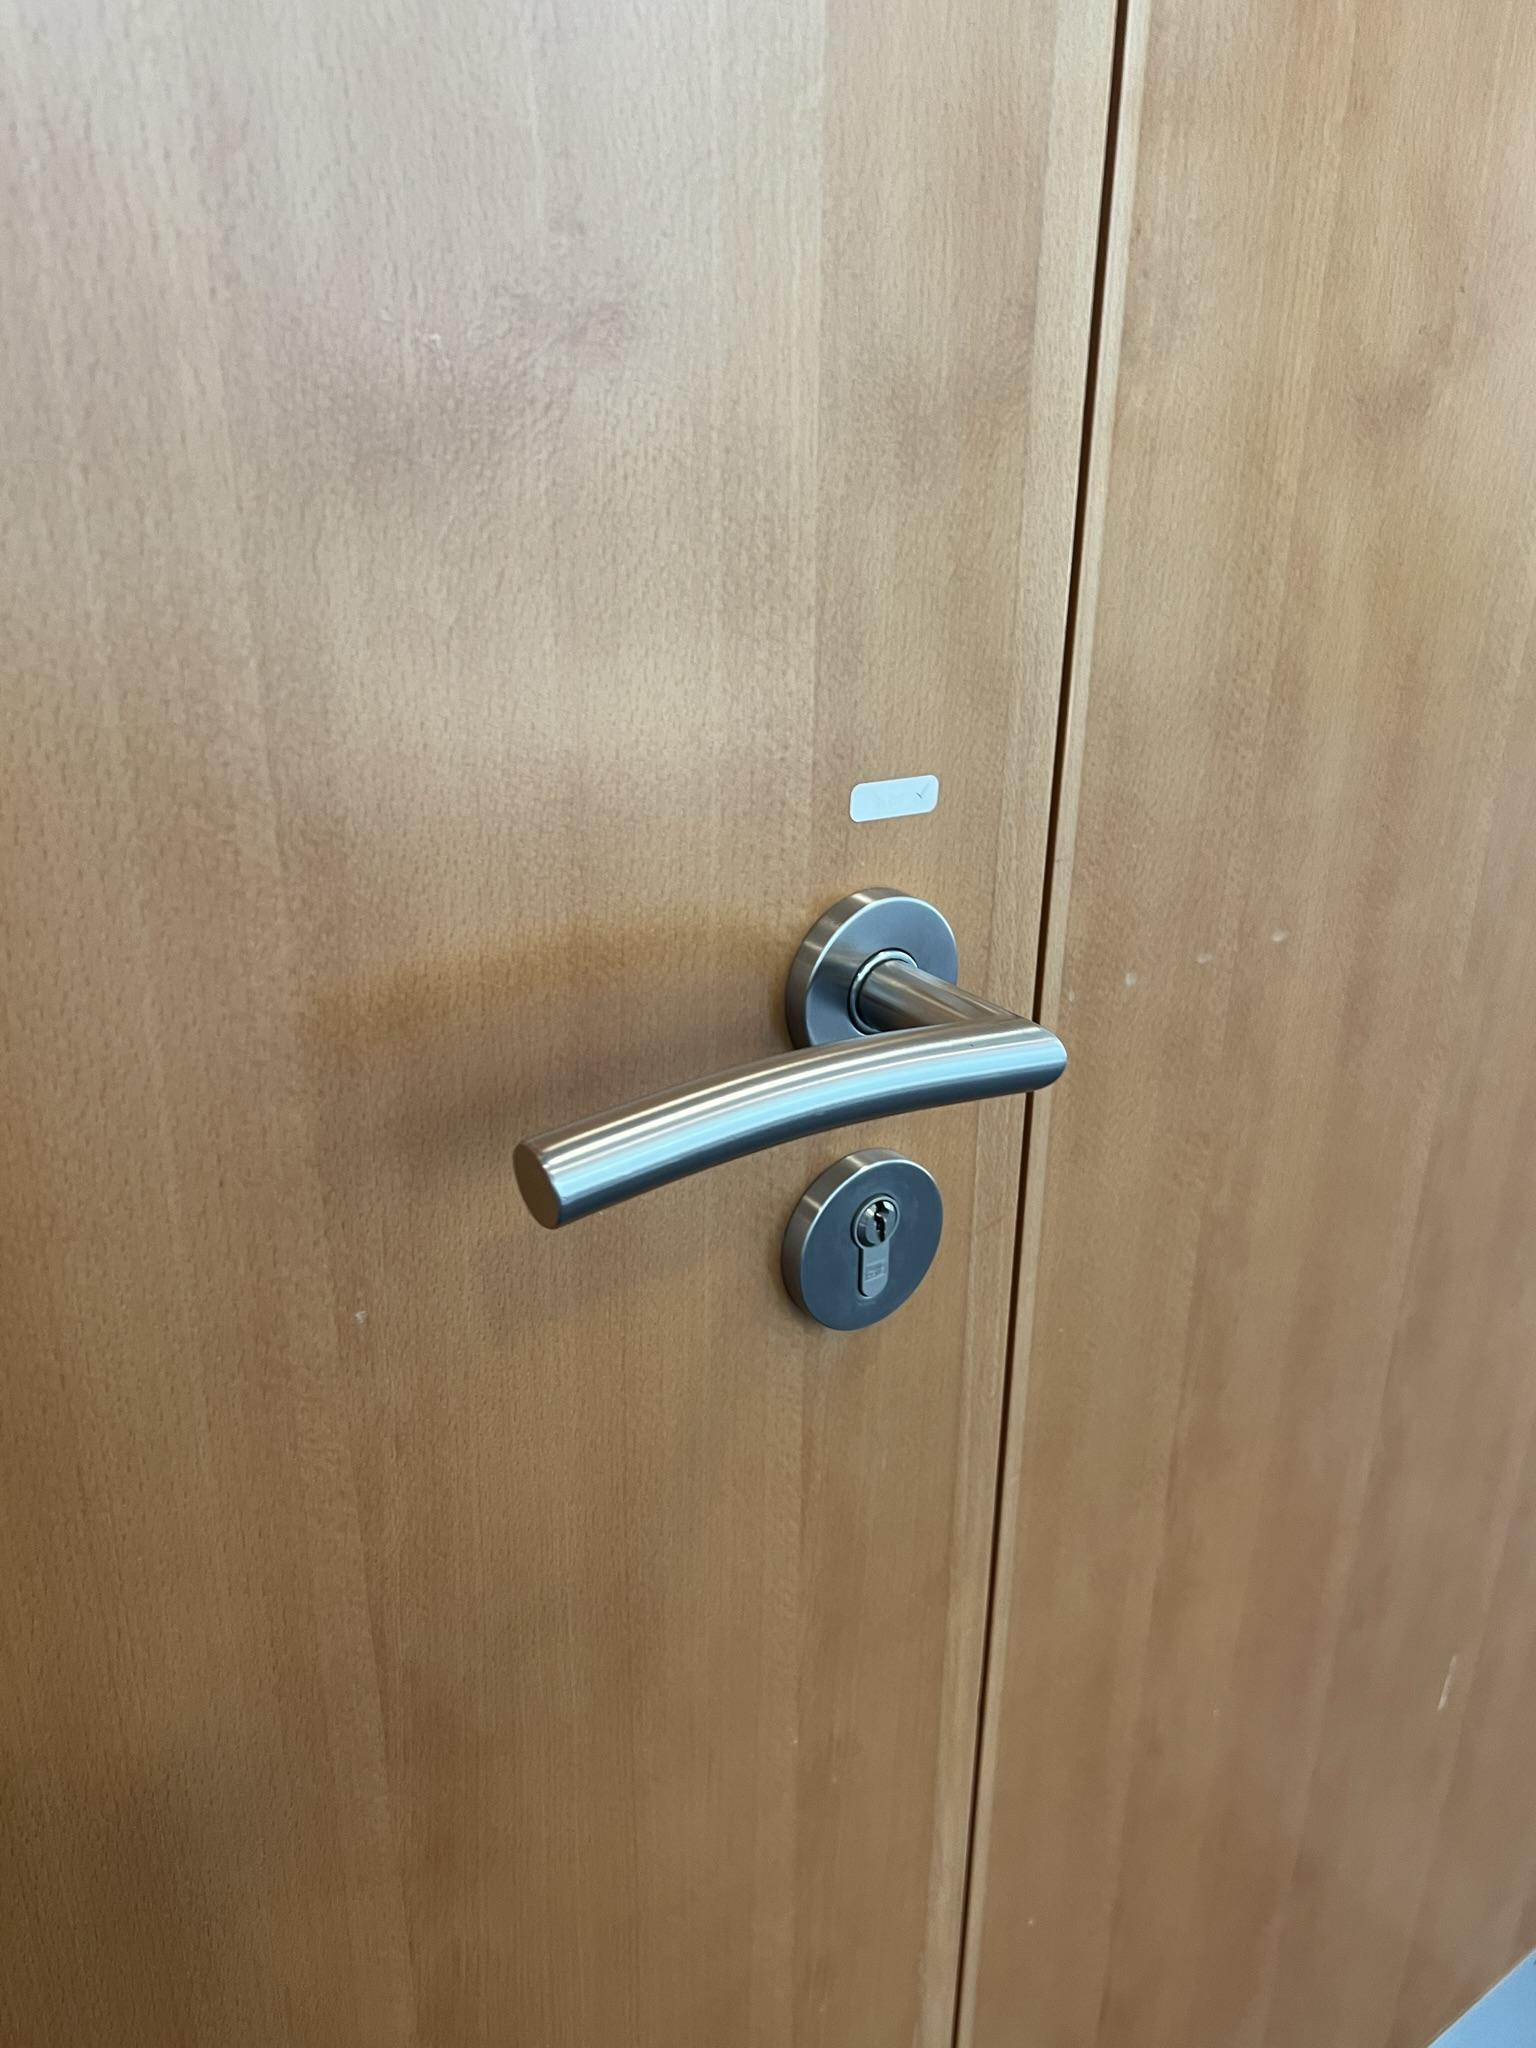door: (6, 6, 1125, 2035)
handle: (507, 856, 1078, 1214)
